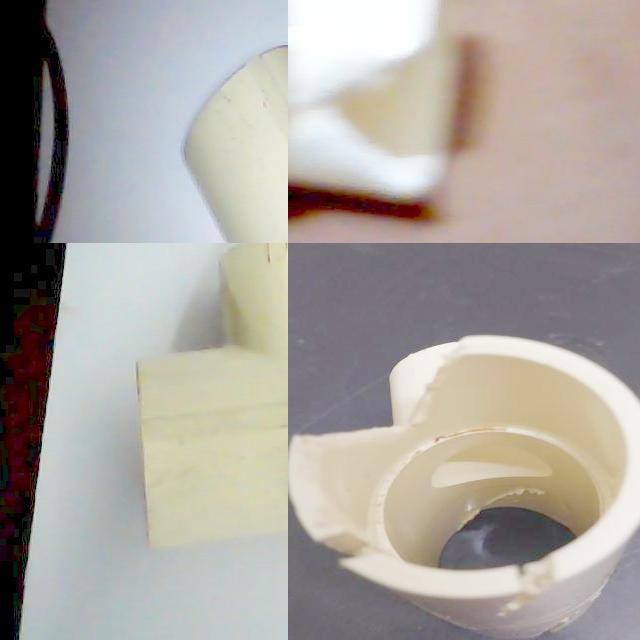Defective: (288, 344, 476, 481), (334, 38, 455, 158), (510, 552, 597, 636), (307, 516, 386, 598)
T Joint: (136, 243, 288, 553), (288, 0, 450, 210), (182, 45, 288, 243)
